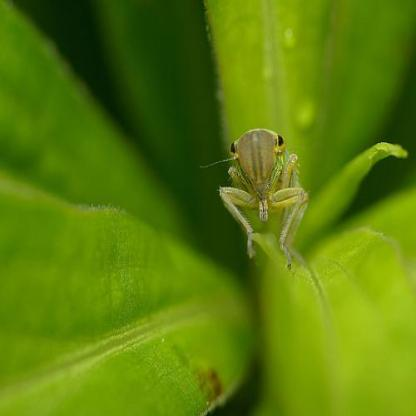Green-Leafhopper: (202, 125, 322, 293)
